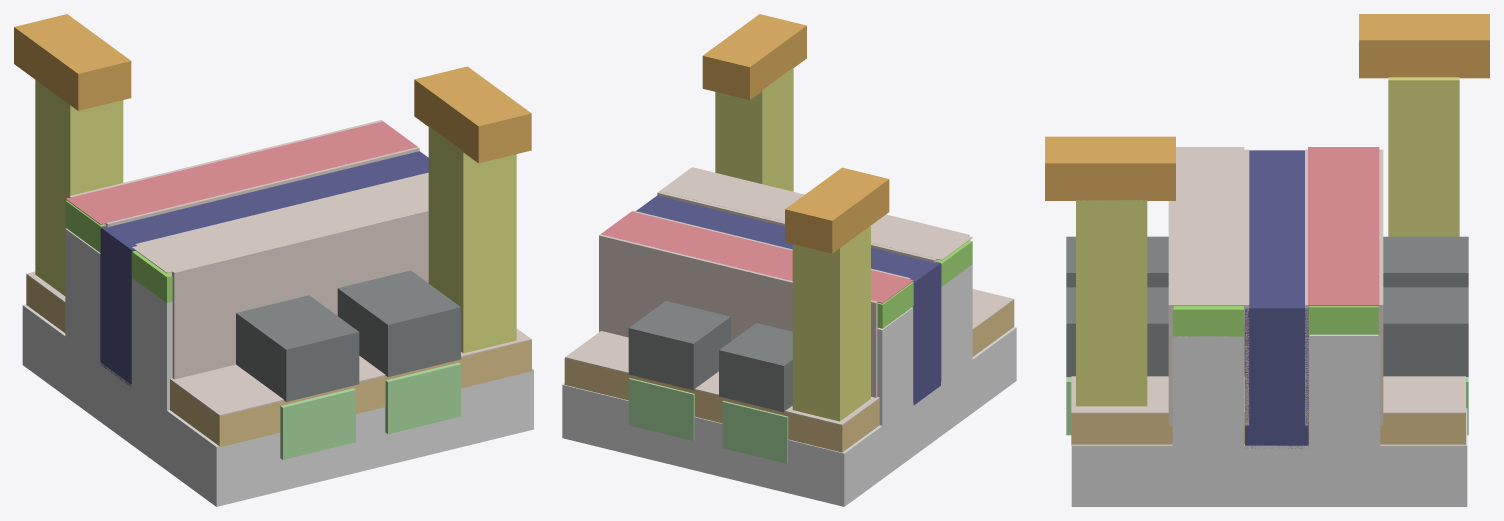
The model's file is finfet_contacts.glb.
The picture shows the model from 3 angles, left to right: view 1: azimuth 30°, elevation 25°; view 2: azimuth 150°, elevation 25°; view 3: azimuth 270°, elevation 25°; orthographic projection. The views are drawn at different scales.
Visible parts, largest first — view 1: Cube, Cube.012, Cube.019, Cube.018, Cube.004, Cube.020, Cube.017, Cube.008, Cube.014, Cube.006, Cube.022, Cube.021 (+10 smaller); view 2: Cube, Cube.020, Cube.013, Cube.018, Cube.019, Cube.014, Cube.006, Cube.004, Cube.008, Cube.022, Cube.021, Cube.017 (+8 smaller); view 3: Cube, Cube.018, Cube.019, Cube.020, Cube.004, Cube.008, Cube.014, Cube.002, Cube.021, Cube.022, Cube.001, Cube.017 (+9 smaller).
Boxes of the visible parts, <box> form: Cube: <box>22,304,533,506</box>; Cube.012: <box>172,209,428,379</box>; Cube.019: <box>428,126,516,353</box>; Cube.018: <box>100,151,428,386</box>; Cube.004: <box>65,121,417,224</box>; Cube.020: <box>35,80,123,295</box>; Cube.017: <box>236,295,359,401</box>; Cube.008: <box>132,175,428,273</box>; Cube.014: <box>337,270,460,376</box>; Cube.006: <box>26,275,531,447</box>; Cube.022: <box>14,14,131,110</box>; Cube.021: <box>414,66,531,163</box>; Cube: <box>562,327,1016,506</box>; Cube.020: <box>792,226,870,421</box>; Cube.013: <box>599,234,877,397</box>; Cube.018: <box>636,195,940,405</box>; Cube.019: <box>715,67,793,191</box>; Cube.014: <box>628,301,730,390</box>; Cube.006: <box>564,300,1014,452</box>; Cube.004: <box>601,211,913,303</box>; Cube.008: <box>659,168,972,260</box>; Cube.022: <box>785,167,889,253</box>; Cube.021: <box>702,14,806,100</box>; Cube.017: <box>719,323,792,412</box>; Cube: <box>1071,408,1467,506</box>; Cube.018: <box>1245,150,1308,448</box>; Cube.019: <box>1076,200,1147,406</box>; Cube.020: <box>1388,77,1459,236</box>; Cube.004: <box>1308,147,1379,305</box>; Cube.008: <box>1173,147,1244,305</box>; Cube.014: <box>1066,287,1468,376</box>; Cube.002: <box>1309,334,1380,453</box>; Cube.021: <box>1045,136,1175,200</box>; Cube.022: <box>1359,14,1489,78</box>; Cube.001: <box>1172,336,1243,448</box>; Cube.017: <box>1066,236,1468,287</box>.
Size of the model in its own units: 2.2 by 2.18 by 2.62.
